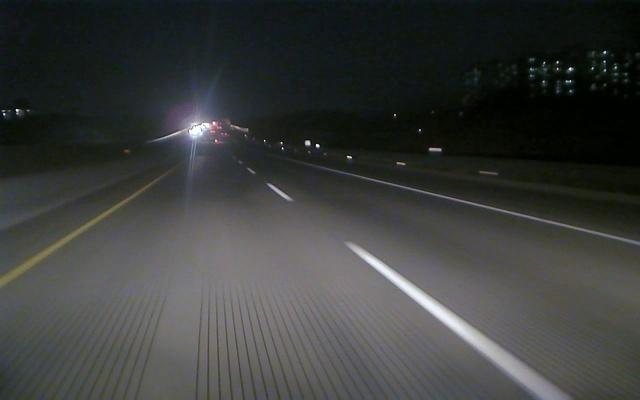lane: (267, 182, 574, 399), (333, 168, 640, 247), (1, 186, 147, 288)
